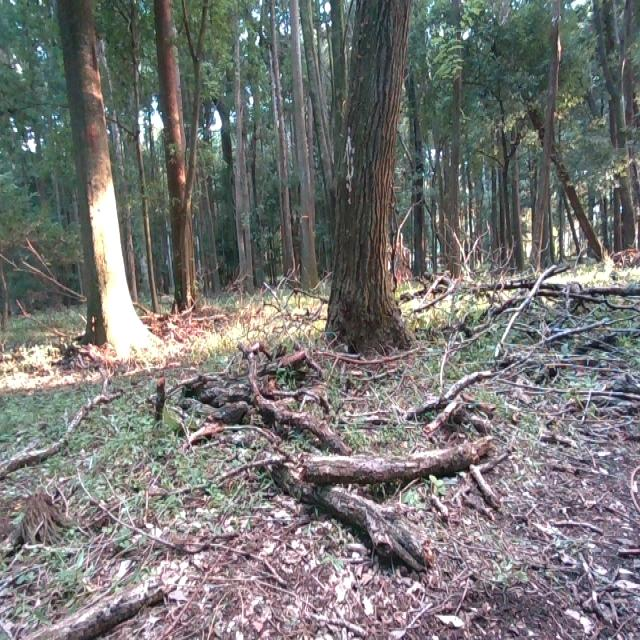tree: (51, 0, 164, 359), (321, 0, 422, 349), (143, 0, 230, 317), (266, 458, 428, 574), (224, 0, 268, 293), (592, 0, 638, 268), (289, 434, 502, 488), (285, 0, 321, 296), (239, 366, 357, 454), (526, 0, 565, 266), (438, 0, 466, 276), (493, 5, 521, 268)
